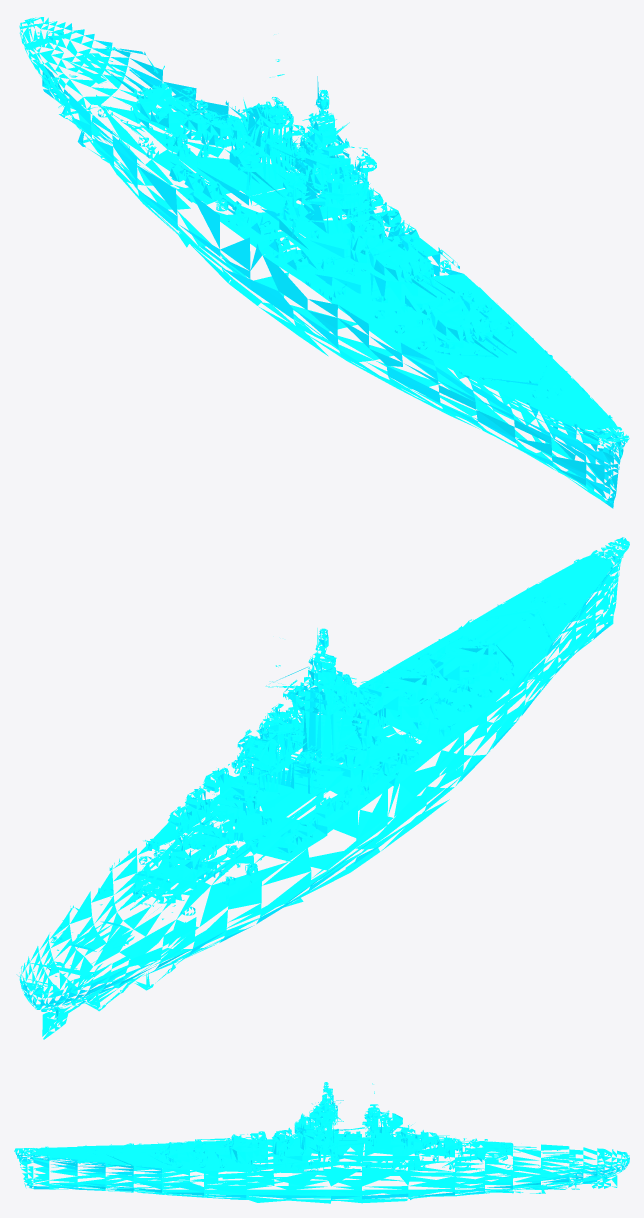
File: Roussillon.glb
The picture shows the model from 3 angles, top to bottom: view 1: azimuth 30°, elevation 25°; view 2: azimuth 150°, elevation 25°; view 3: azimuth 270°, elevation 25°; orthographic projection. The views are drawn at different scales.
Size of the model in its own units: 2.38 by 3.79 by 17.66.
